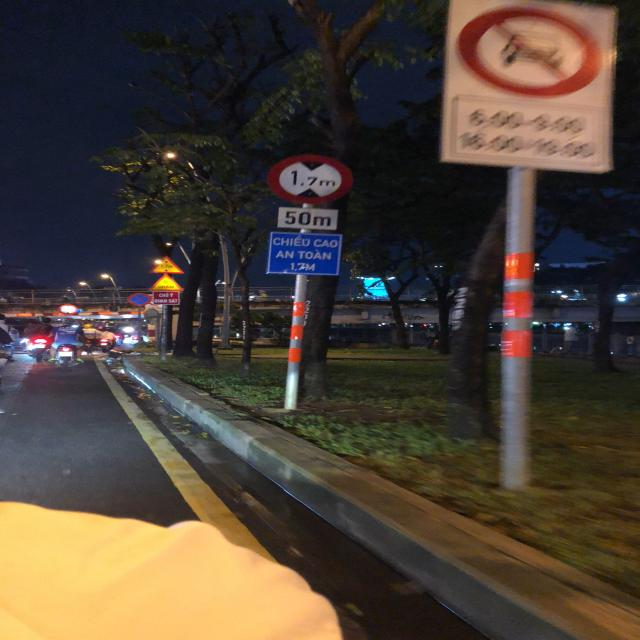Bien bao cam dung xe va do xe: (125, 292, 153, 307)
Bien bao chieu cao tinh khong thuc te: (145, 255, 185, 274)
Bien bao di cham: (148, 274, 187, 292)
Bien bao han che chieu cao: (264, 150, 360, 202)
